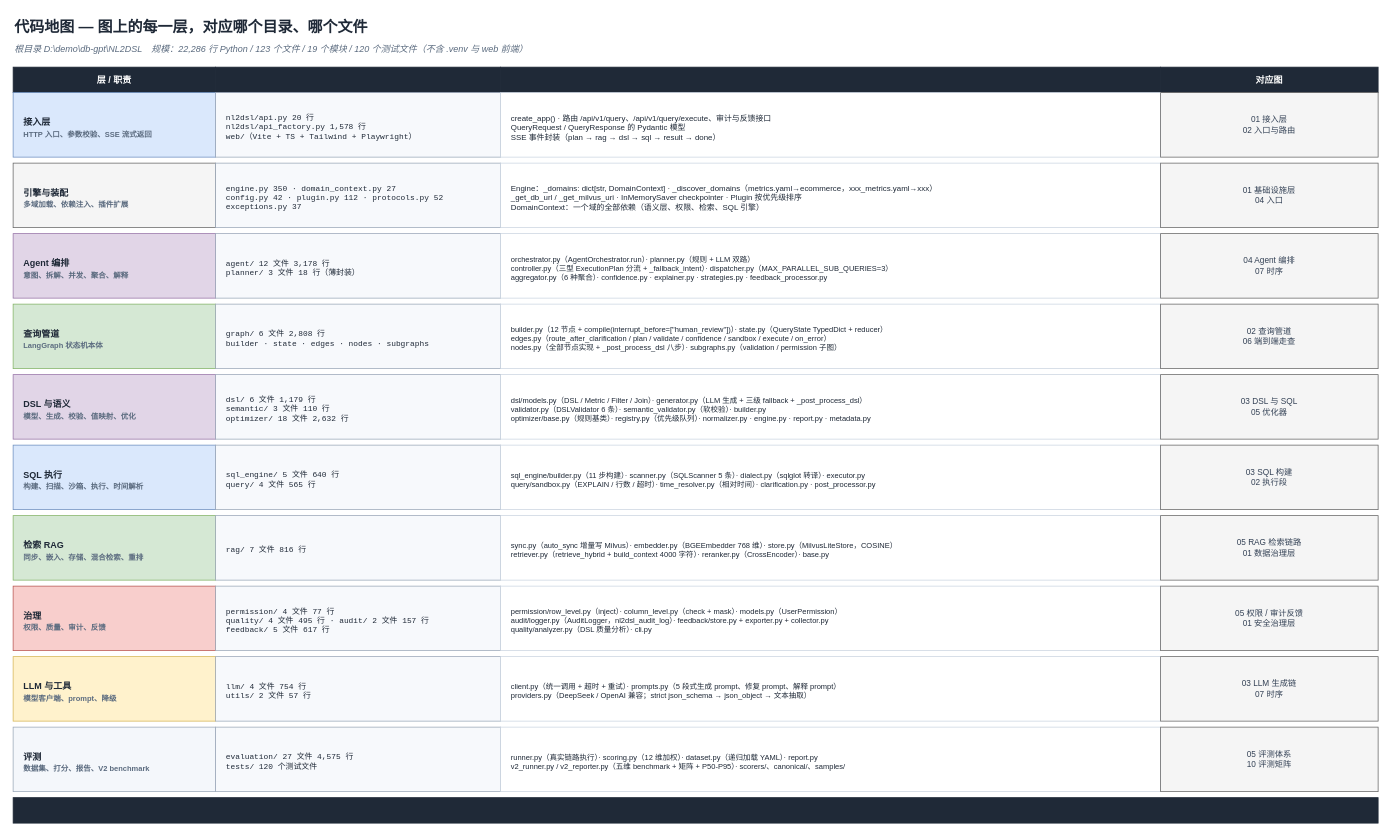
The diagram is 1391 pixels wide and 836 high, and some of its shapes have lost their labels. Here are the shapes that lost their labels. From the top down, the centre of each, then its label:
[358,79]: 目录 · 规模
[830,79]: 关键文件 → 里面的类 / 函数
[695,810]: 定位建议：面试被追问某一点时，按「图 → 层 → 目录 → 文件 → 类/函数」四级下钻，最后落到具体行；本图第 3 列就是下钻路径。
